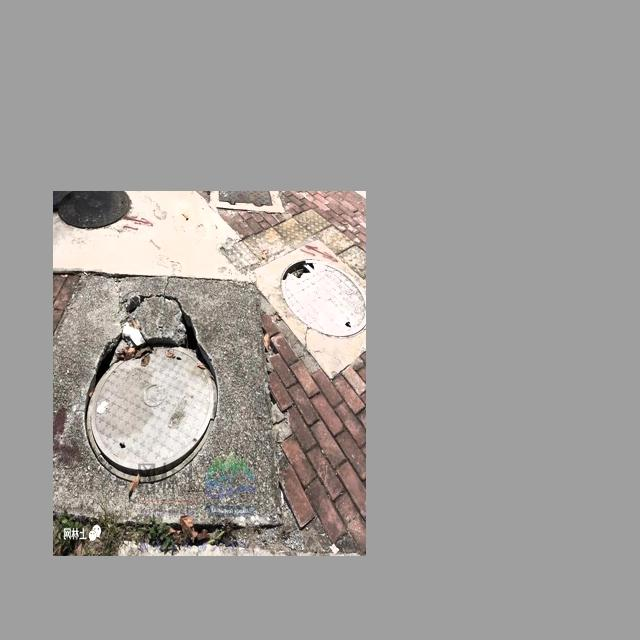circle: (55, 264, 287, 527)
